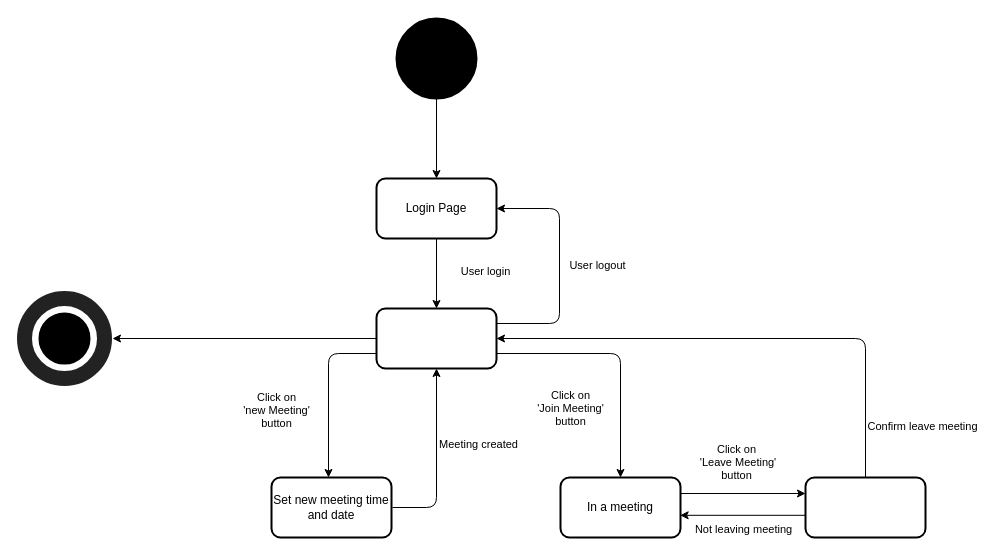
This 995x555 diagram has some shape labels left out. The centre of each missing label's shape, as x and y in pixels:
"Confirm user selection" goes at point 865,507.
"Dashboard" goes at point 436,338.
